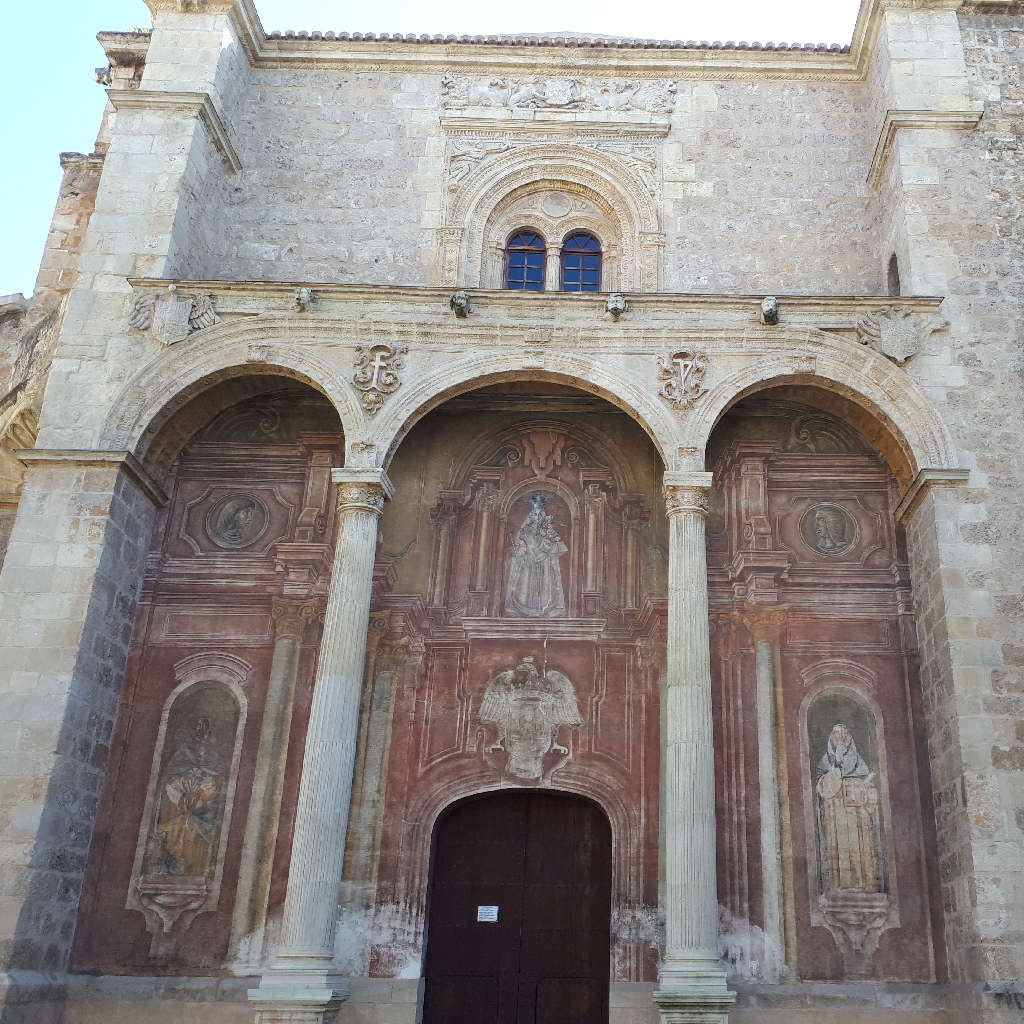arco-medio-punto: (361, 352, 687, 515), (111, 356, 358, 517), (689, 361, 948, 512), (448, 140, 666, 253)
